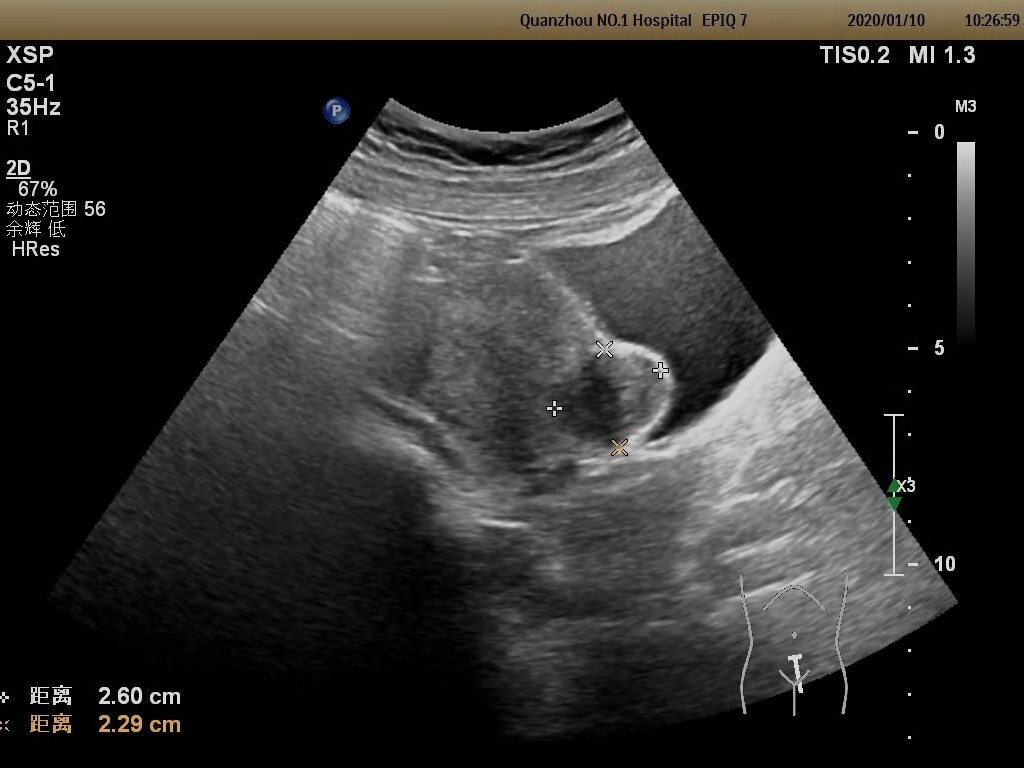肌瘤: (555, 350, 662, 449)
